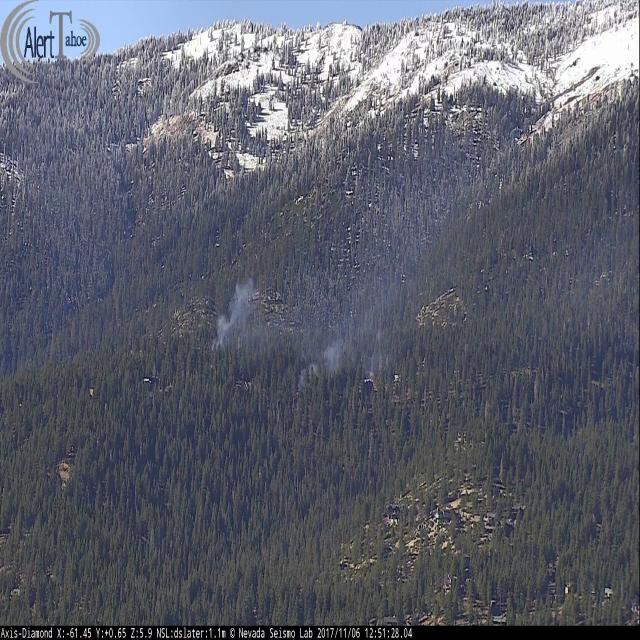smoke: (206, 141, 640, 398)
